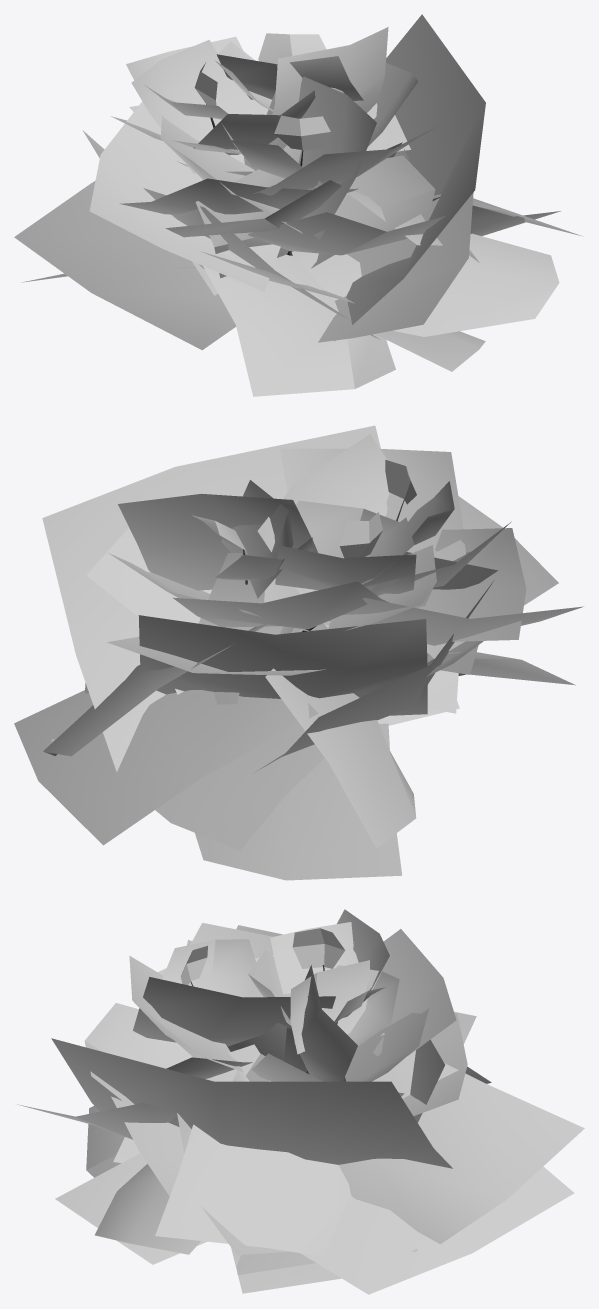
The model's file is bush_5.gltf.
3 renders of one model, top to bottom at view 1: azimuth 30°, elevation 25°; view 2: azimuth 150°, elevation 25°; view 3: azimuth 270°, elevation 25°, orthographic. The views are drawn at different scales.
Parts seen in each view (by area): view 1: Bush-05; view 2: Bush-05; view 3: Bush-05.
Boxes of the visible parts, left/top/right/bottom form: Bush-05: left=14, top=14, right=583, bottom=396; Bush-05: left=14, top=425, right=583, bottom=880; Bush-05: left=17, top=909, right=584, bottom=1294.
Size of the model in its own units: 4.23 by 2.24 by 4.63.
